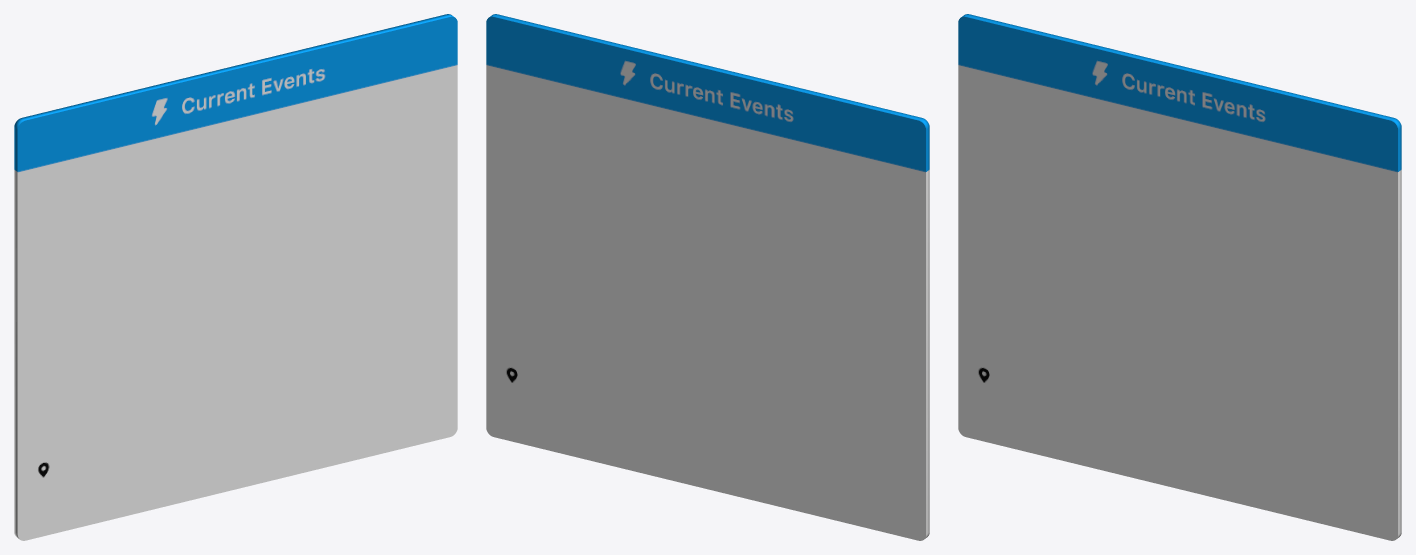
The model's file is events-UI.glb.
3 views of the same model, side by side, from view 1: azimuth 30°, elevation 25°; view 2: azimuth 150°, elevation 25°; view 3: azimuth 330°, elevation 25° (orthographic).
Visible parts, largest first — view 1: events_background; view 2: events_background; view 3: events_background.
Boxes of the visible parts, x1,y1,x2,y2 form: events_background: [14, 14, 457, 540]; events_background: [486, 14, 929, 540]; events_background: [958, 14, 1401, 540].
Size of what is drawn, in the model's own units: 4.25 by 3.88 by 0.0617.
Materials: 1 (1 with a texture image).
